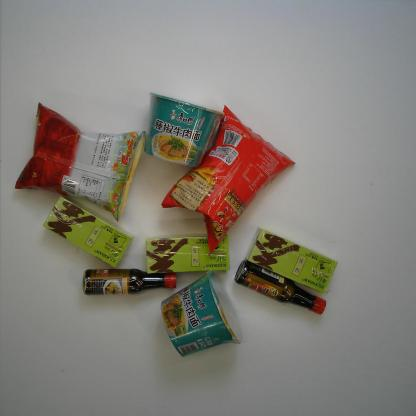Instant Drink: (42, 194, 134, 269), (244, 226, 338, 295), (144, 234, 230, 274)
Instant Noodles: (160, 270, 244, 358), (141, 91, 226, 167)
Puffed Food: (161, 104, 296, 254), (13, 101, 146, 223)
Seasoner: (234, 260, 327, 316), (82, 267, 177, 296)
